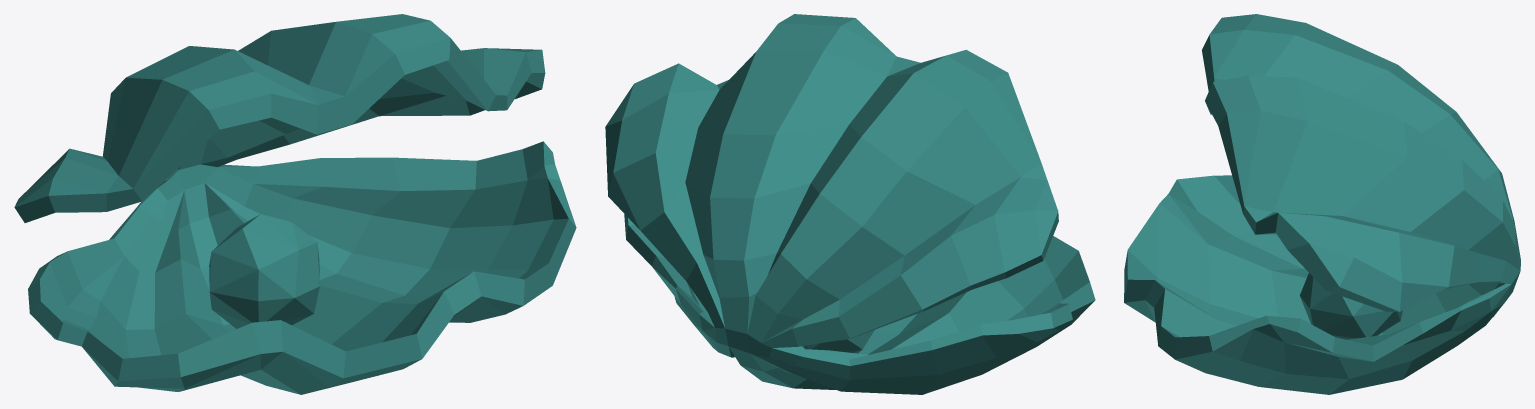
Rendered from SM_Sea_Shell_Giant_Open.fbx.
The picture shows the model from 3 angles, left to right: view 1: azimuth 30°, elevation 25°; view 2: azimuth 150°, elevation 25°; view 3: azimuth 270°, elevation 25°; orthographic projection. The views are drawn at different scales.
Parts seen in each view (by area): view 1: sea-shell-giant-open-body, sea-shell-giant-pearl; view 2: sea-shell-giant-open-body, sea-shell-giant-pearl; view 3: sea-shell-giant-open-body, sea-shell-giant-pearl.
Boxes of the visible parts, <box> form: sea-shell-giant-open-body: <box>14,14,576,394</box>; sea-shell-giant-pearl: <box>209,214,319,328</box>; sea-shell-giant-open-body: <box>605,14,1095,394</box>; sea-shell-giant-pearl: <box>802,330,874,353</box>; sea-shell-giant-open-body: <box>1124,14,1520,394</box>; sea-shell-giant-pearl: <box>1299,273,1402,339</box>.
Bounding box in the file's own units: 0.7537 × 0.4836 × 0.5705.
